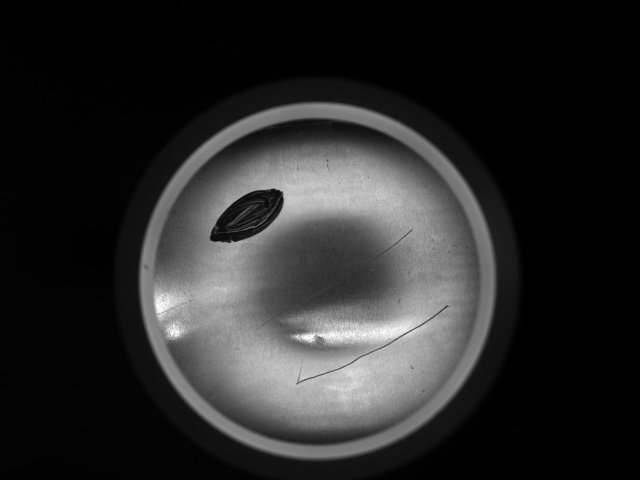ca_shang: (248, 225, 416, 332), (295, 303, 452, 386)
zang_wu: (208, 189, 288, 245)
